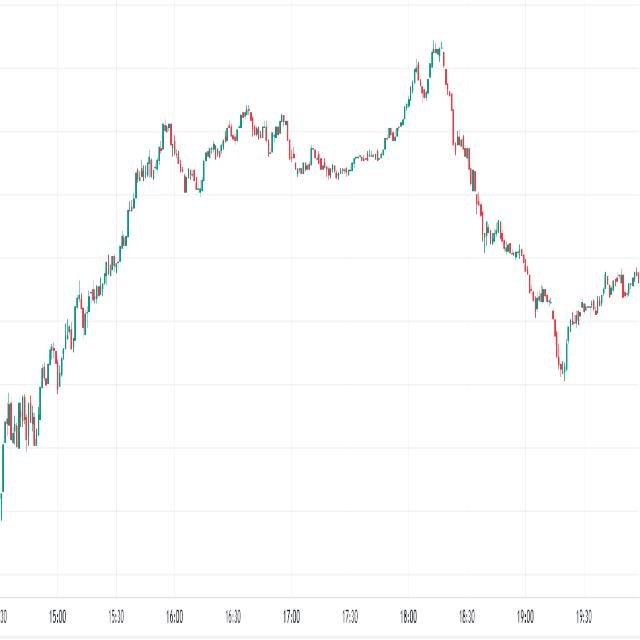Cup-and-handle: (282, 25, 439, 197)
